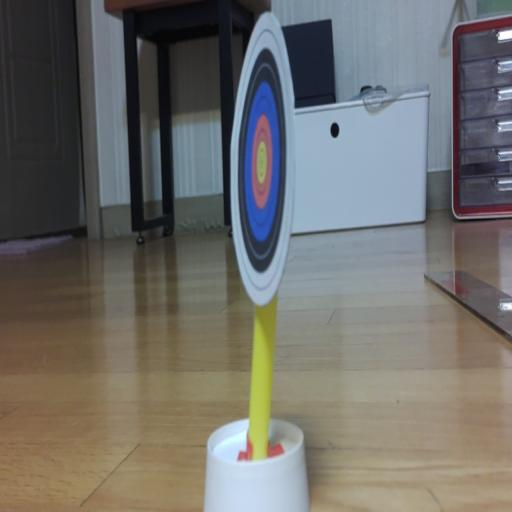target: (231, 13, 294, 305)
